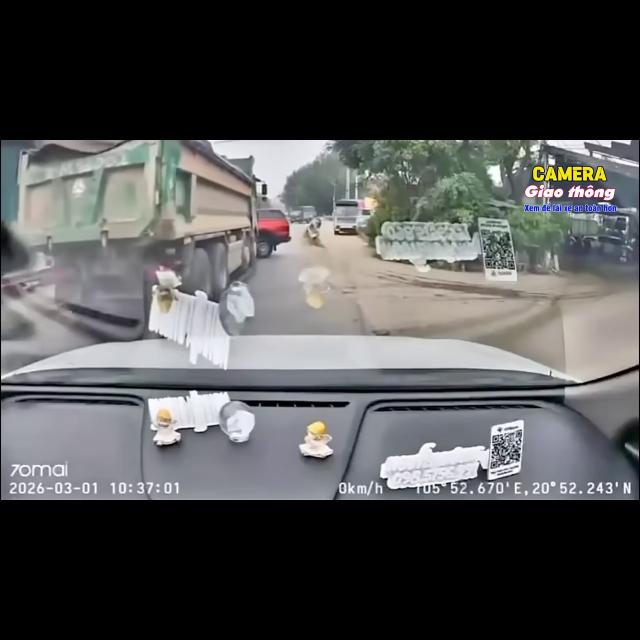car: (3, 346, 637, 500), (256, 209, 290, 258)
truck: (16, 140, 266, 340), (333, 199, 360, 234), (290, 205, 318, 223)
